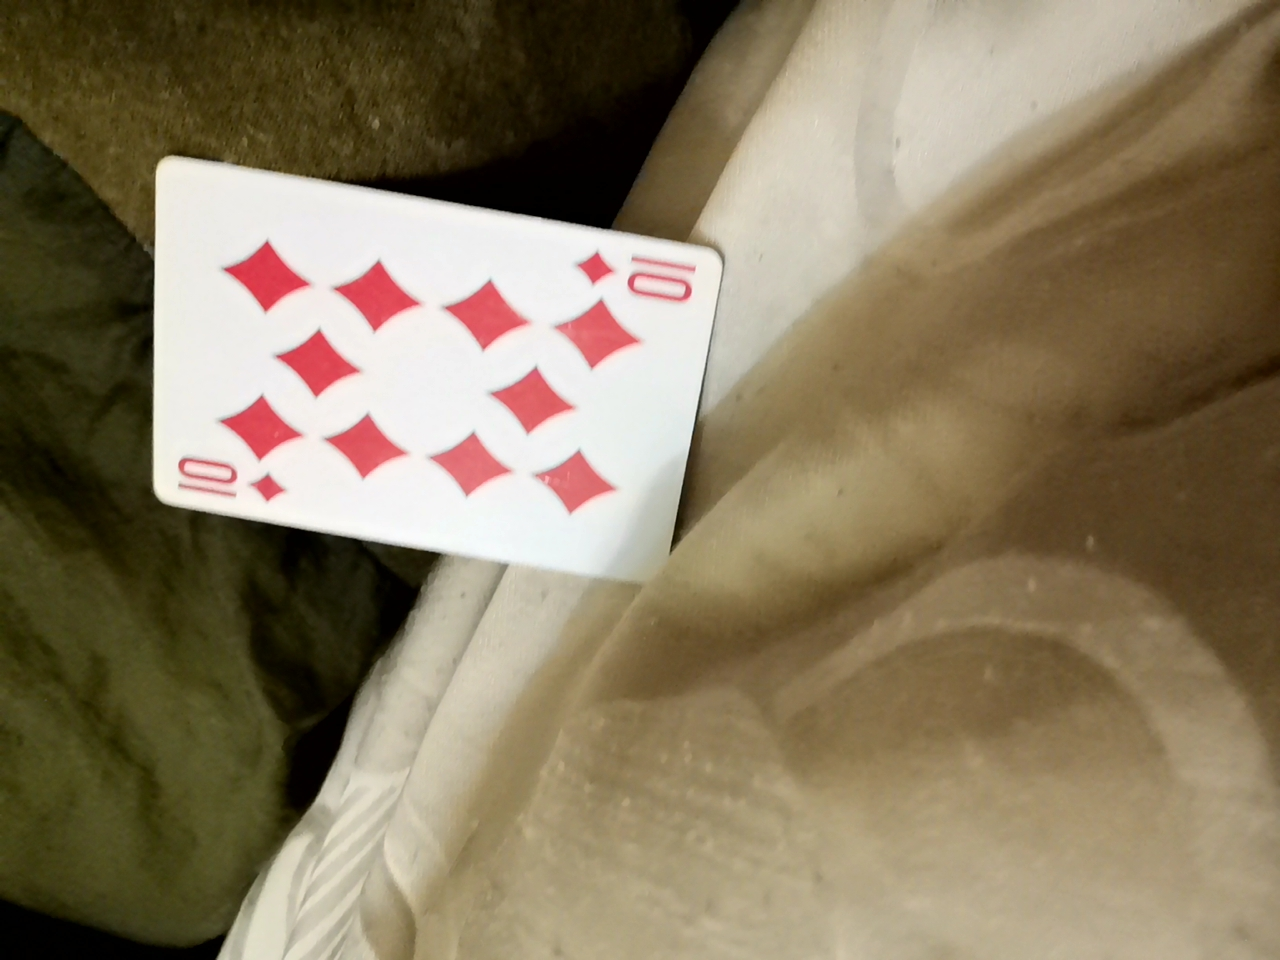fk 10: (60, 204, 692, 663)
